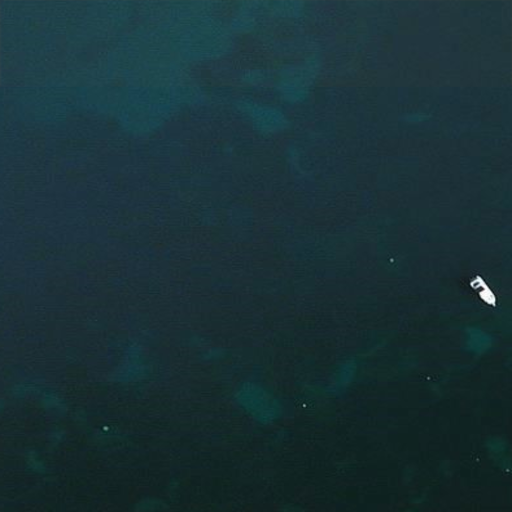ship: (465, 272, 500, 311)
